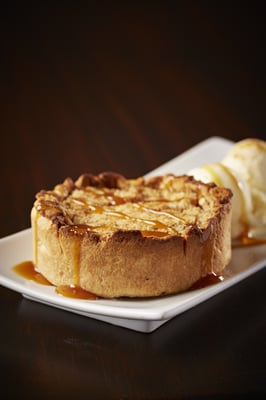soup: (29, 170, 234, 299)
